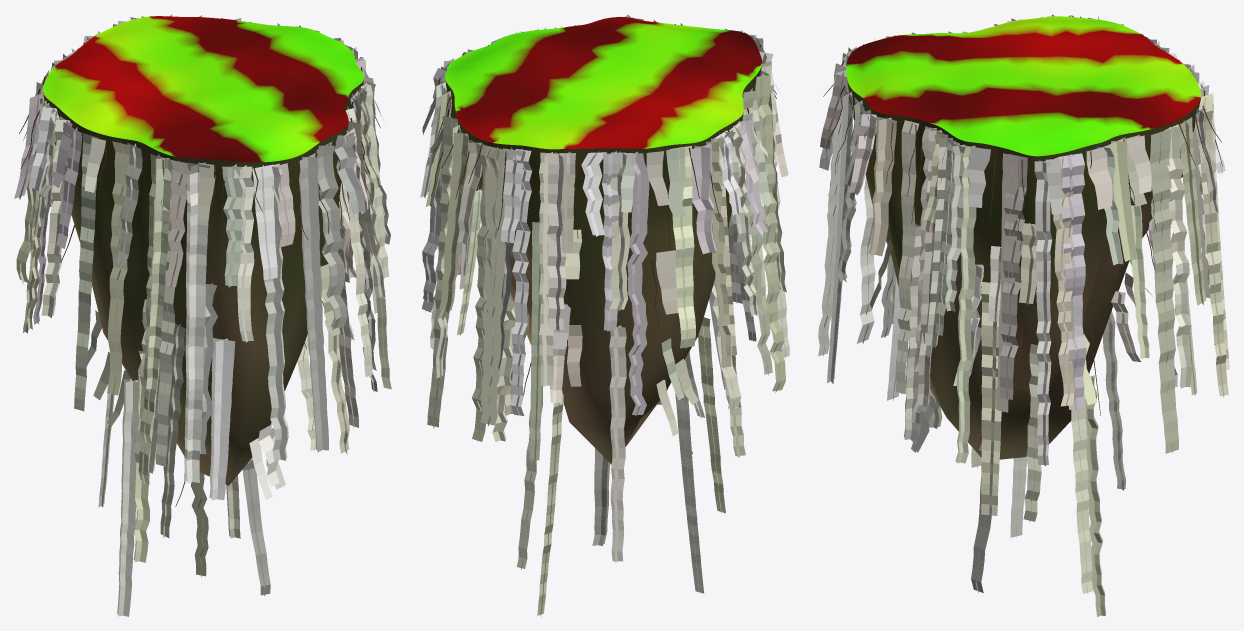
File: SM_H01_Floater07.fbx
The picture shows the model from 3 angles, left to right: view 1: azimuth 30°, elevation 25°; view 2: azimuth 150°, elevation 25°; view 3: azimuth 270°, elevation 25°; orthographic projection. The views are drawn at different scales.
Parts seen in each view (by area): view 1: SM_H01_Floater07_Ivy, SM_H01_Floater07; view 2: SM_H01_Floater07_Ivy, SM_H01_Floater07; view 3: SM_H01_Floater07_Ivy, SM_H01_Floater07.
Boxes of the visible parts, left/top/right/bottom form: SM_H01_Floater07_Ivy: left=14, top=14, right=391, bottom=616; SM_H01_Floater07: left=43, top=16, right=363, bottom=485; SM_H01_Floater07_Ivy: left=420, top=14, right=789, bottom=616; SM_H01_Floater07: left=445, top=17, right=762, bottom=464; SM_H01_Floater07_Ivy: left=818, top=14, right=1229, bottom=616; SM_H01_Floater07: left=846, top=16, right=1201, bottom=459.
Bounding box in the file's own units: 31.8 × 48.62 × 34.3.
